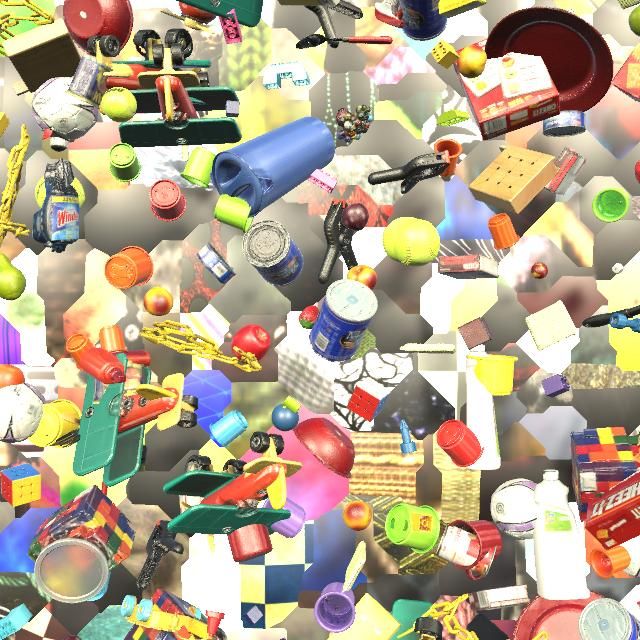ycb_002_master_chef_can: (309, 279, 378, 363), (242, 220, 304, 286), (578, 598, 640, 640), (399, 0, 448, 41)
ycb_003_cracker_box: (453, 38, 560, 141), (585, 433, 640, 550), (611, 41, 640, 102)
ycb_004_sugar_box: (327, 593, 402, 640), (438, 0, 487, 18), (278, 0, 340, 5)
ycb_005_tomato_soup_can: (436, 524, 497, 577)
ycb_007_tuna_fish_can: (197, 243, 236, 284), (543, 110, 586, 137)
ycb_008_pudding_box: (544, 147, 588, 195), (468, 585, 530, 611), (438, 254, 499, 280)
ycb_009_gelatin_box: (179, 495, 204, 513), (637, 601, 640, 608)
ycb_010_potted_meat_can: (65, 54, 114, 110), (93, 363, 144, 404)
ycb_012_strawberry: (299, 305, 319, 330), (635, 160, 640, 183)
ycb_013_apple: (231, 324, 271, 364)
ycb_015_peach: (456, 45, 487, 78), (143, 287, 174, 316), (343, 500, 372, 531), (347, 265, 377, 290)
ycb_016_pear: (0, 253, 26, 301), (629, 5, 640, 37)
ycb_017_orange: (0, 364, 25, 389)
ycb_018_plum: (341, 203, 369, 231), (62, 635, 82, 640)
